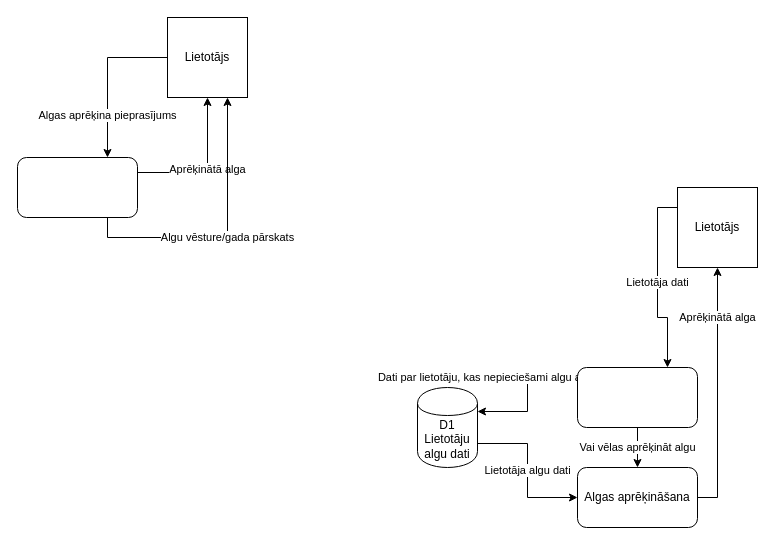
Some shapes in this 775 by 545 pixel diagram are drawn without their labels. The shapes that lost their labels are listed below. From the top down, each one's box as (x1, y1, x2, y2) in pixels, then its label:
(16, 156, 138, 218): 0 Algu aprēķins
(576, 366, 698, 428): 1 Lietotāja reģistrācija
